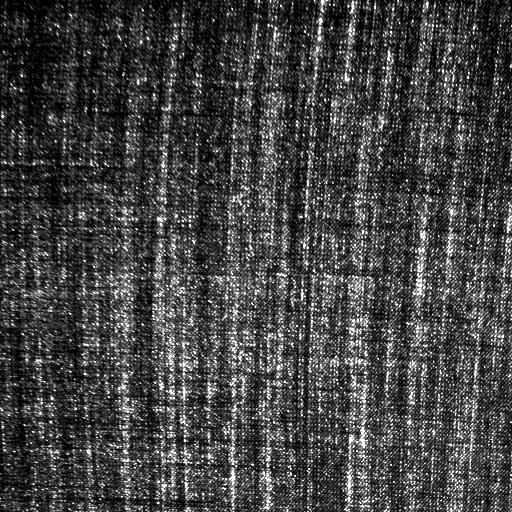fabric_perfect: (0, 6, 506, 510)
